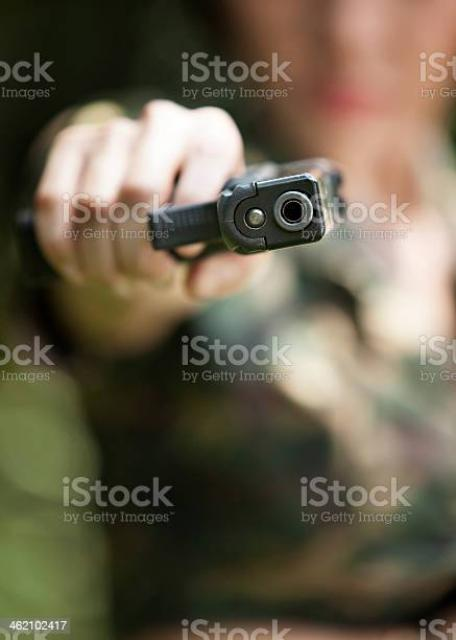handgun: (7, 152, 355, 276)
